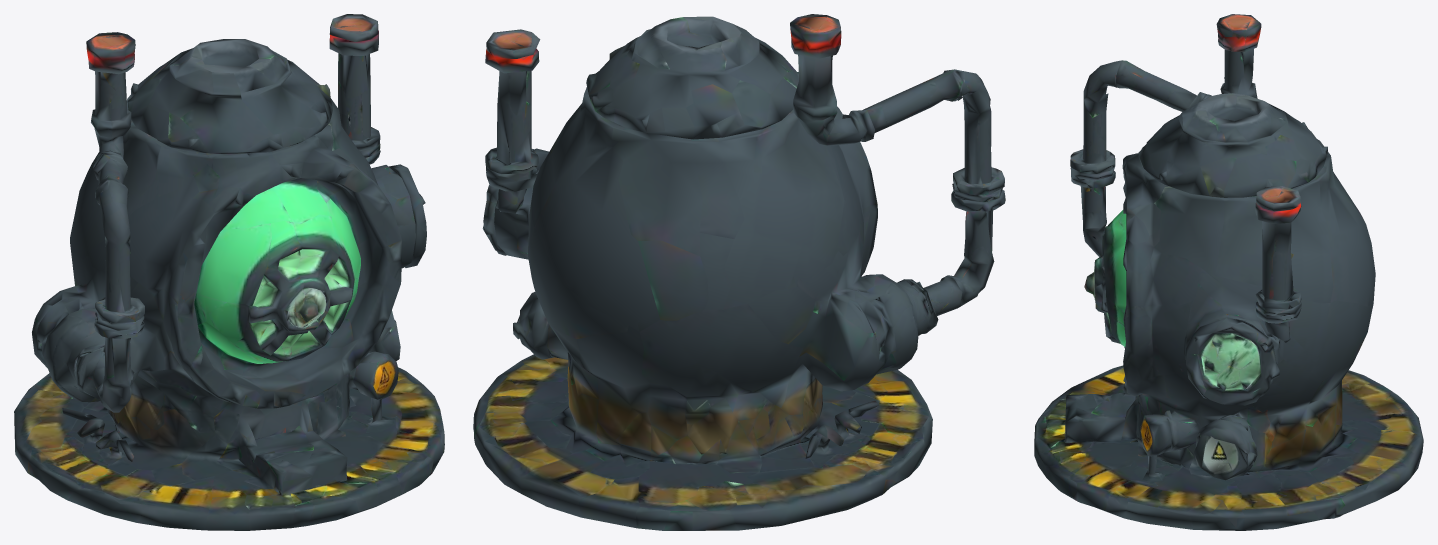
The model's file is reactor.glb.
The picture shows the model from 3 angles, left to right: view 1: azimuth 30°, elevation 25°; view 2: azimuth 150°, elevation 25°; view 3: azimuth 270°, elevation 25°; orthographic projection. The views are drawn at different scales.
Bounding box in the file's own units: 1.86 × 1.9 × 1.77.
Materials: 1 (1 with a texture image).
